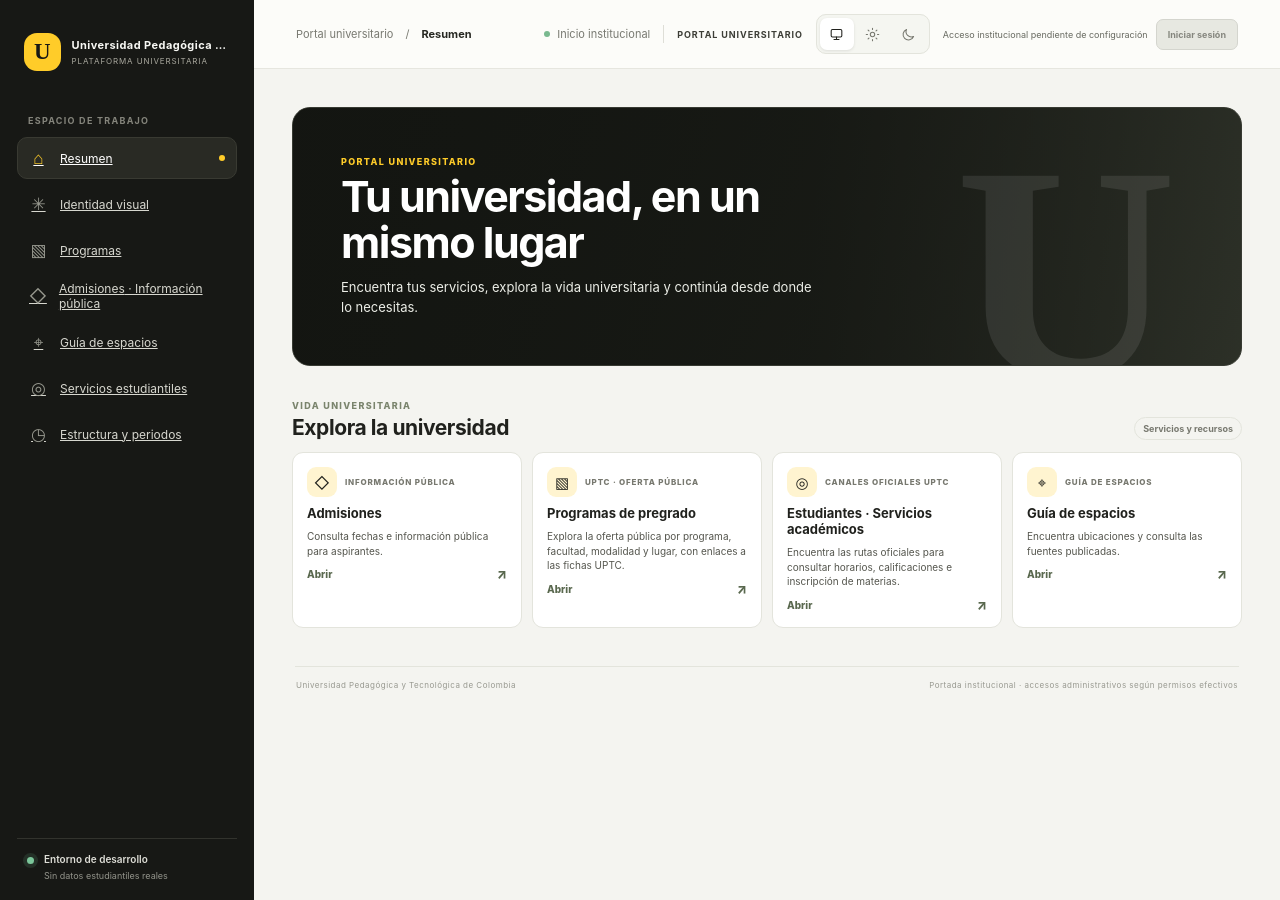
Test case: App › opens student services from the portal home and keeps the identity center on its own route
This screenshot has width=1280, height=900.
Check: the heading "Tu universidad, en un mismo lugar" is shown, box [341,170,760,268]
Click the link "Servicios académicos" at x=887, y=540, box [772,452,1002,628]
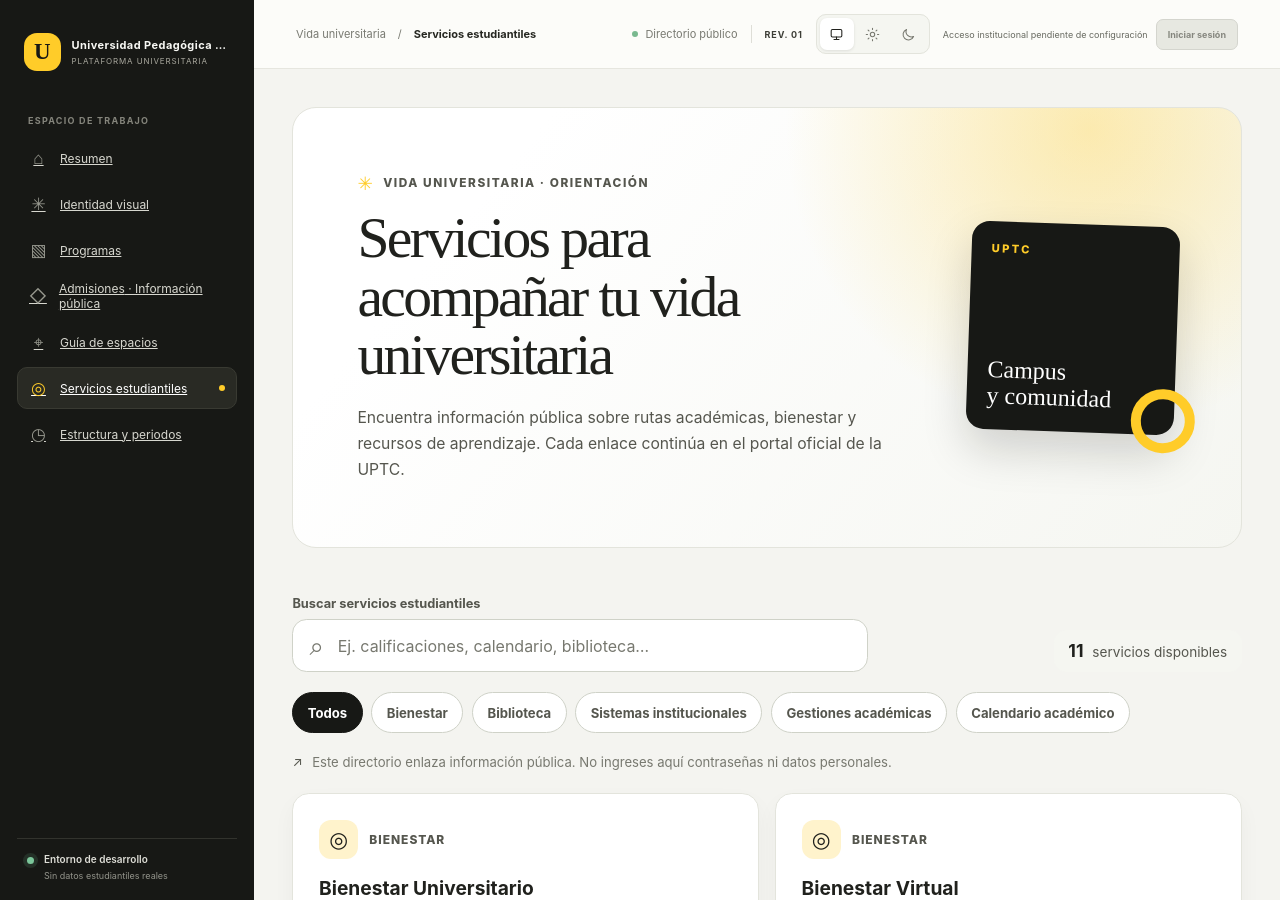
Check: the heading "Servicios para acompañar tu vida universitaria" is shown, box [357,206,739,386]
